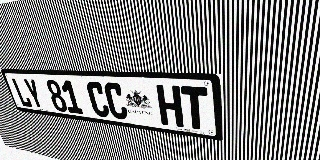1: (59, 80, 83, 114)
8: (45, 79, 69, 112)
C: (103, 82, 129, 120), (85, 81, 111, 118)
H: (156, 85, 184, 127)
L: (11, 78, 33, 108)
T: (181, 86, 209, 131)
Y: (22, 78, 45, 109)
